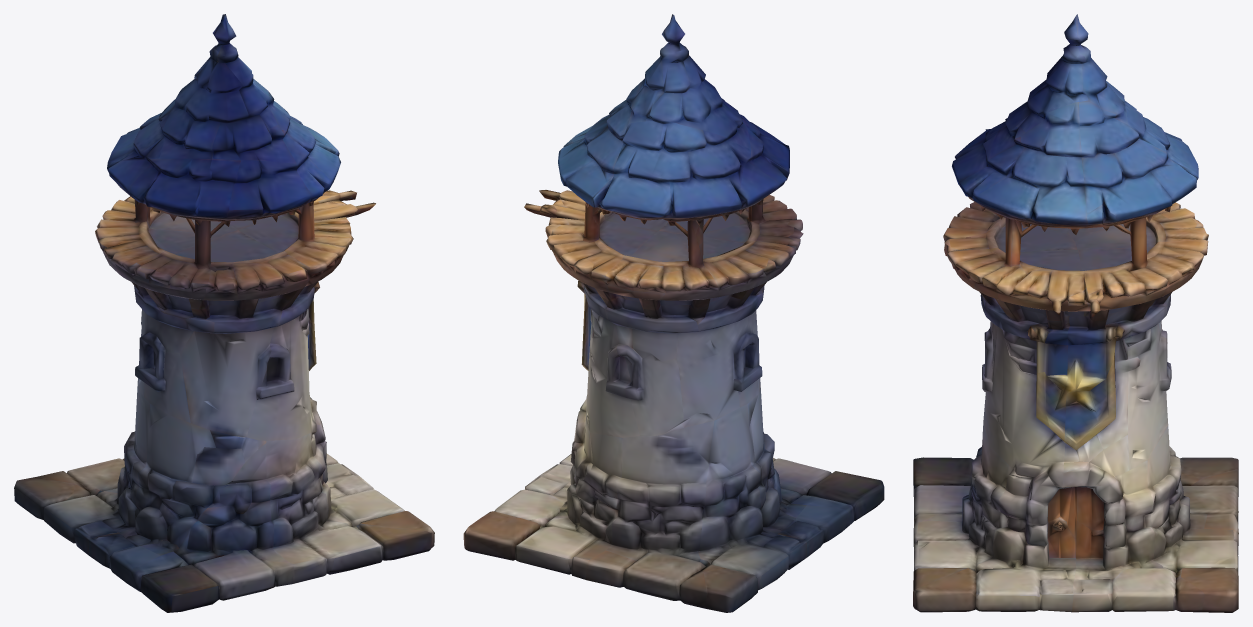
File: tower-low.glb
The picture shows the model from 3 angles, left to right: view 1: azimuth 30°, elevation 25°; view 2: azimuth 150°, elevation 25°; view 3: azimuth 270°, elevation 25°; orthographic projection. The views are drawn at different scales.
Parts seen in each view (by area): view 1: tripo_node_efa72810-b5e4-4de8-a77d-54a993fa293e; view 2: tripo_node_efa72810-b5e4-4de8-a77d-54a993fa293e; view 3: tripo_node_efa72810-b5e4-4de8-a77d-54a993fa293e.
Boxes of the visible parts, left/top/right/bottom form: tripo_node_efa72810-b5e4-4de8-a77d-54a993fa293e: left=14, top=14, right=434, bottom=612; tripo_node_efa72810-b5e4-4de8-a77d-54a993fa293e: left=463, top=14, right=884, bottom=612; tripo_node_efa72810-b5e4-4de8-a77d-54a993fa293e: left=913, top=14, right=1238, bottom=612.
Size of the model in its own units: 0.566 by 0.9962 by 0.5529.
1 material, 1 textured.
